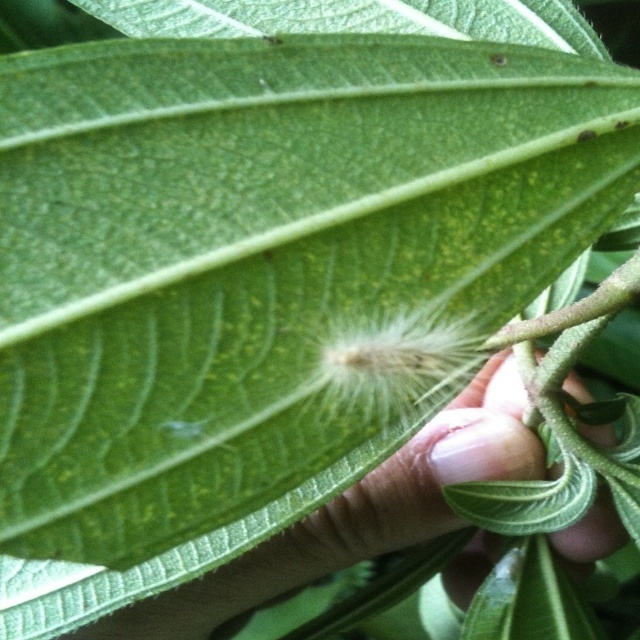Caterpillar: (288, 307, 504, 440)
